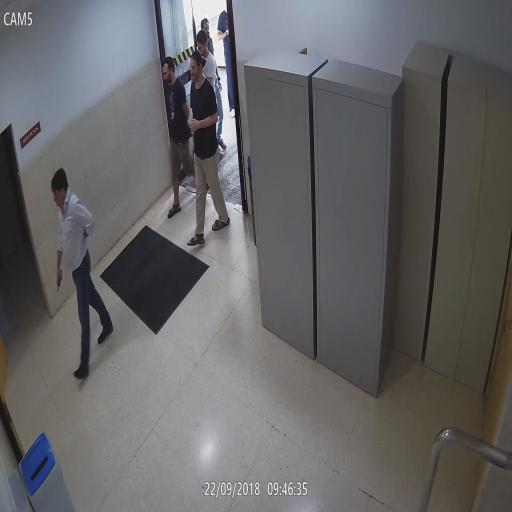Handgun: (56, 268, 62, 294)
